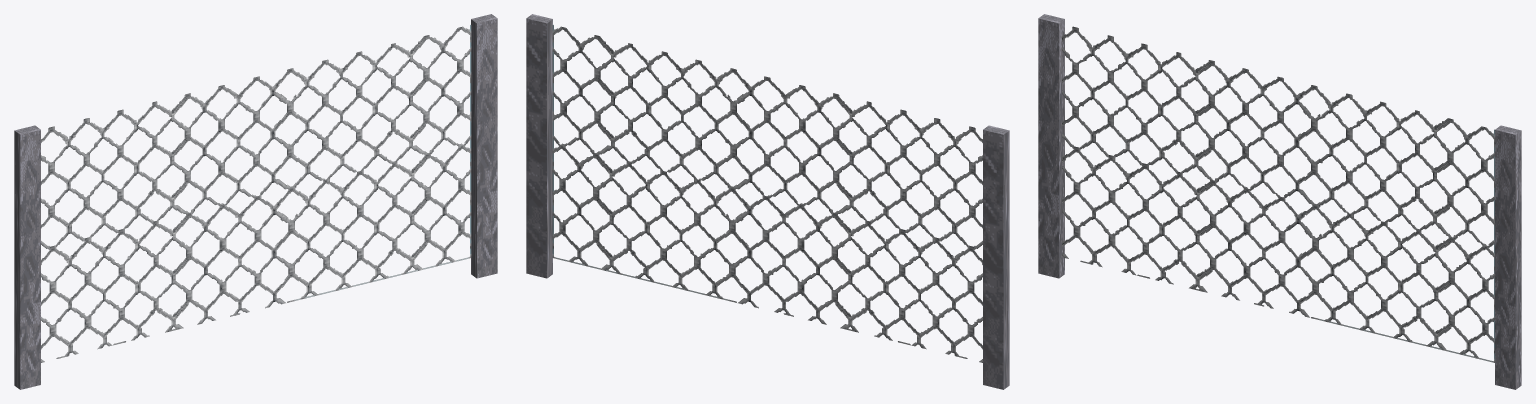
The model's file is fence.fbx.
3 views of the same model, side by side, from view 1: azimuth 30°, elevation 25°; view 2: azimuth 150°, elevation 25°; view 3: azimuth 330°, elevation 25° (orthographic).
Visible parts, largest first — view 1: plane, mesh, mesh_1; view 2: plane, mesh, mesh_1; view 3: plane, mesh, mesh_1.
Boxes of the visible parts, left/top/right/bottom form: plane: left=41, top=25, right=471, bottom=362; mesh: left=471, top=14, right=497, bottom=278; mesh_1: left=14, top=125, right=40, bottom=389; plane: left=552, top=25, right=982, bottom=362; mesh: left=526, top=14, right=552, bottom=278; mesh_1: left=983, top=125, right=1009, bottom=389; plane: left=1062, top=26, right=1494, bottom=362; mesh: left=1495, top=125, right=1521, bottom=389; mesh_1: left=1038, top=14, right=1064, bottom=278.
Size of the model in its own units: 144 by 73.44 by 3.12.
Materials: 2 (2 with a texture image).
